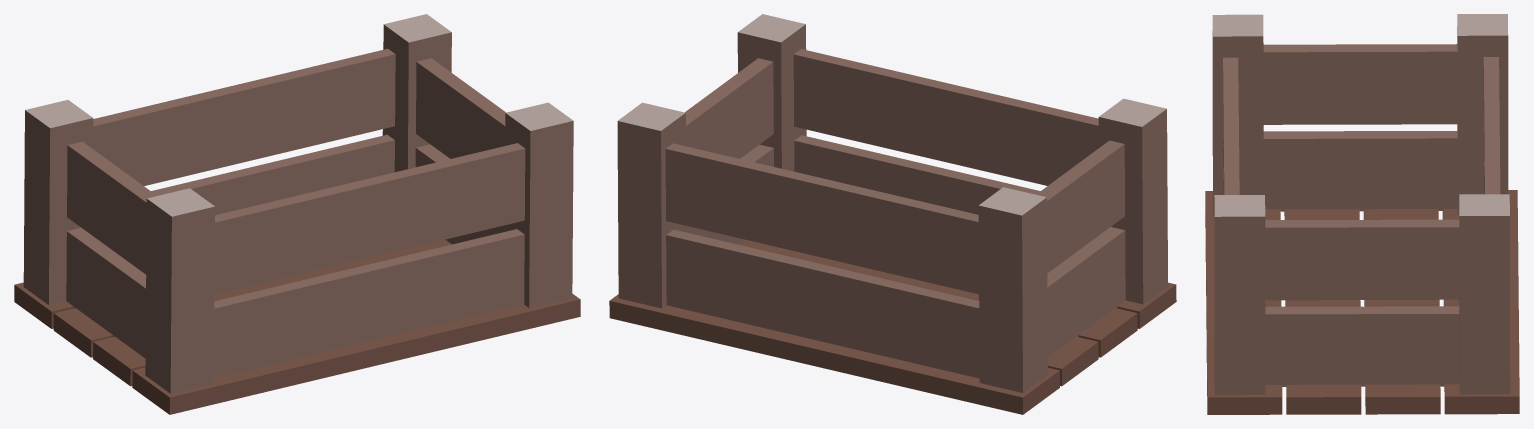
Rendered from props_022.glb.
3 views of the same model, side by side, from view 1: azimuth 30°, elevation 25°; view 2: azimuth 150°, elevation 25°; view 3: azimuth 270°, elevation 25° (orthographic).
Parts seen in each view (by area): view 1: props_022; view 2: props_022; view 3: props_022.
Boxes of the visible parts, bbox=[...] form: props_022: bbox=[14, 14, 580, 414]; props_022: bbox=[609, 14, 1176, 414]; props_022: bbox=[1205, 14, 1519, 414].
Size of the model in its own units: 1.66 by 0.7594 by 1.08.
Materials: 1 (1 with a texture image).
